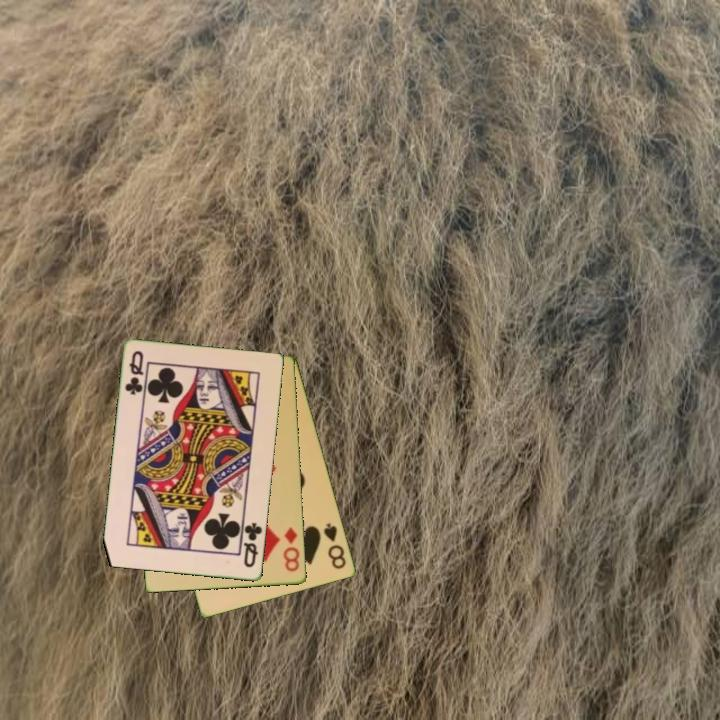8d: (280, 524, 303, 575)
8s: (320, 520, 349, 572)
Qc: (239, 517, 265, 571), (122, 347, 147, 398)
